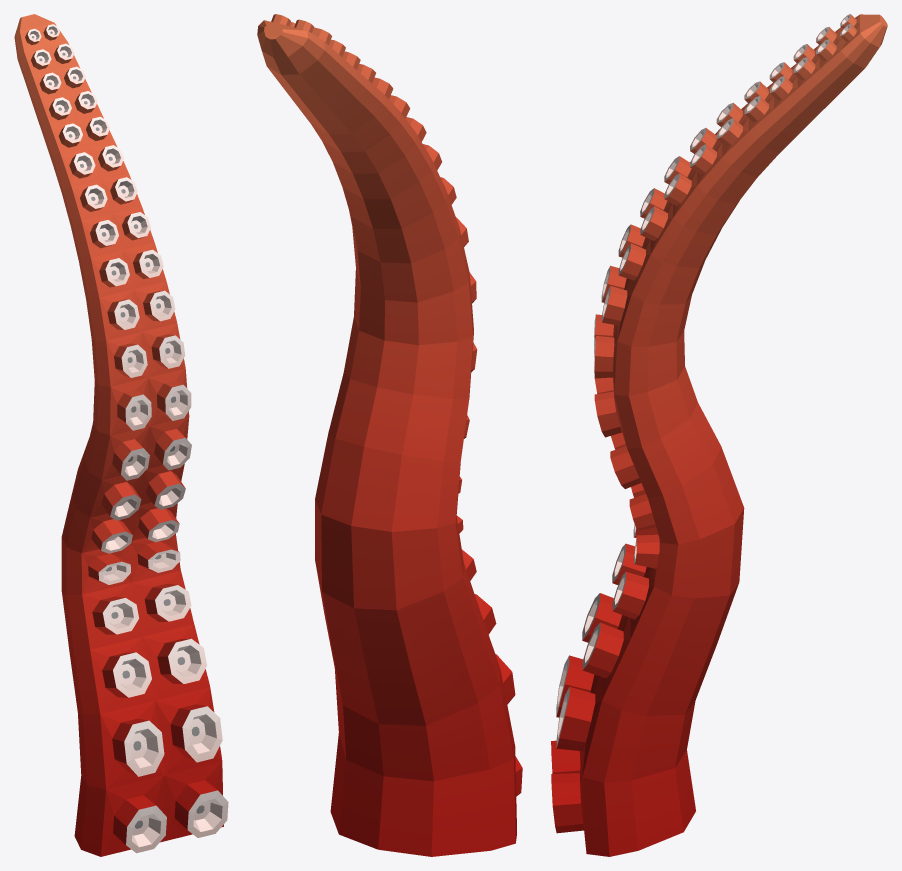
The model's file is tentacles.glb.
3 views of the same model, side by side, from view 1: azimuth 30°, elevation 25°; view 2: azimuth 150°, elevation 25°; view 3: azimuth 270°, elevation 25° (orthographic). The views are drawn at different scales.
Visible parts, largest first — view 1: tentacles; view 2: tentacles; view 3: tentacles.
Boxes of the visible parts, <box> form: tentacles: <box>14,14,228,856</box>; tentacles: <box>257,14,522,856</box>; tentacles: <box>551,14,887,856</box>.
Bounding box in the file's own units: 3.24 × 15.92 × 6.06.
1 material, 1 textured.
